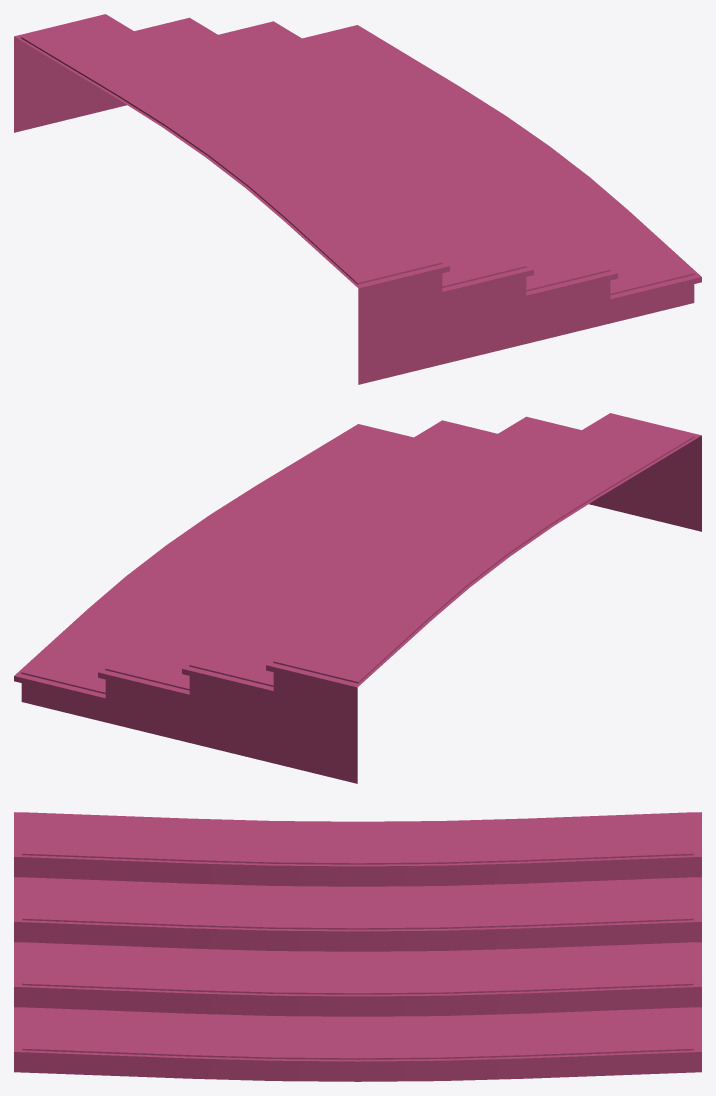
The model's file is arena_stair.fbx.
3 views of the same model, one above another, from view 1: azimuth 30°, elevation 25°; view 2: azimuth 150°, elevation 25°; view 3: azimuth 270°, elevation 25° (orthographic).
Parts seen in each view (by area): view 1: Arena_Stair; view 2: Arena_Stair; view 3: Arena_Stair.
Part boxes in pixels (<box>): Arena_Stair: <box>14,14,701,384</box>; Arena_Stair: <box>14,413,701,783</box>; Arena_Stair: <box>14,812,701,1081</box>.
Bounding box in the file's own units: 4.33 × 1.11 × 7.1.
